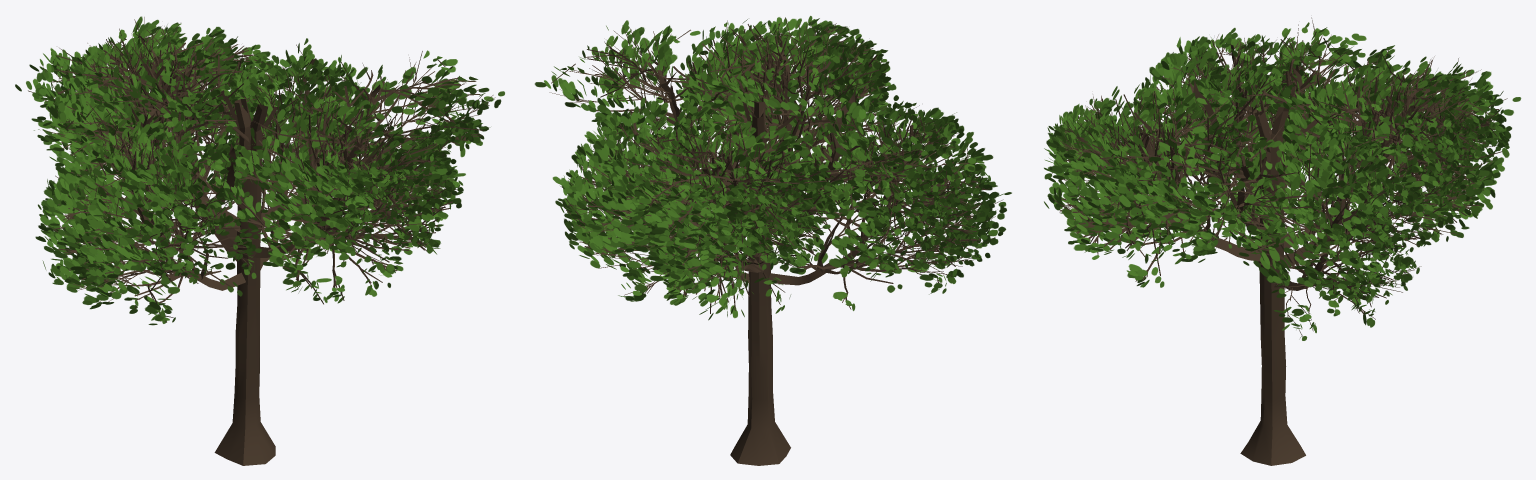
3 renders of one model, left to right at view 1: azimuth 30°, elevation 25°; view 2: azimuth 150°, elevation 25°; view 3: azimuth 270°, elevation 25°, orthographic.
Parts seen in each view (by area): view 1: oak 01.001_trunk_Mat.001_0.126; view 2: oak 01.001_trunk_Mat.001_0.126; view 3: oak 01.001_trunk_Mat.001_0.126.
Boxes of the visible parts, box(x1,y1,x2,y2) form: oak 01.001_trunk_Mat.001_0.126: box(15, 16, 504, 465); oak 01.001_trunk_Mat.001_0.126: box(534, 16, 1011, 465); oak 01.001_trunk_Mat.001_0.126: box(1044, 17, 1521, 465).
Bounding box in the file's own units: 5.3 × 4.25 × 5.1.
Materials: 2 (1 with a texture image).
